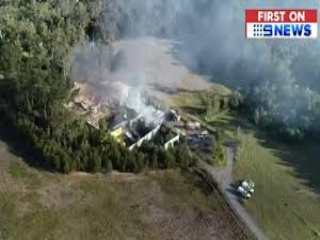smoke: (73, 34, 194, 155)
